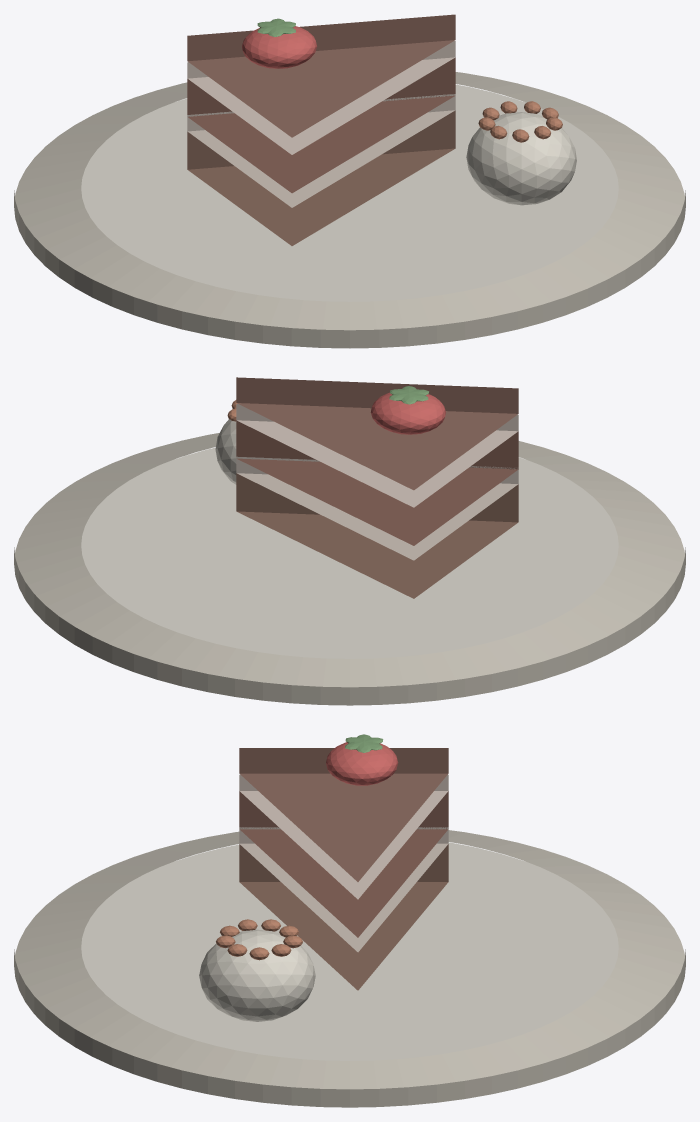
File: cake.glb
3 views of the same model, one above another, from view 1: azimuth 30°, elevation 25°; view 2: azimuth 150°, elevation 25°; view 3: azimuth 270°, elevation 25° (orthographic).
Visible parts, largest first — view 1: world; view 2: world; view 3: world.
Part boxes in pixels (x1,y1,x2,y2): world: (14,14,685,348); world: (14,377,685,705); world: (14,734,685,1107).
Size of the model in its own units: 0.334 by 0.1112 by 0.334.
